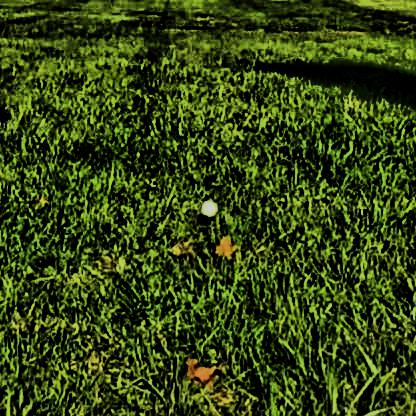golfball: (196, 196, 217, 217)
